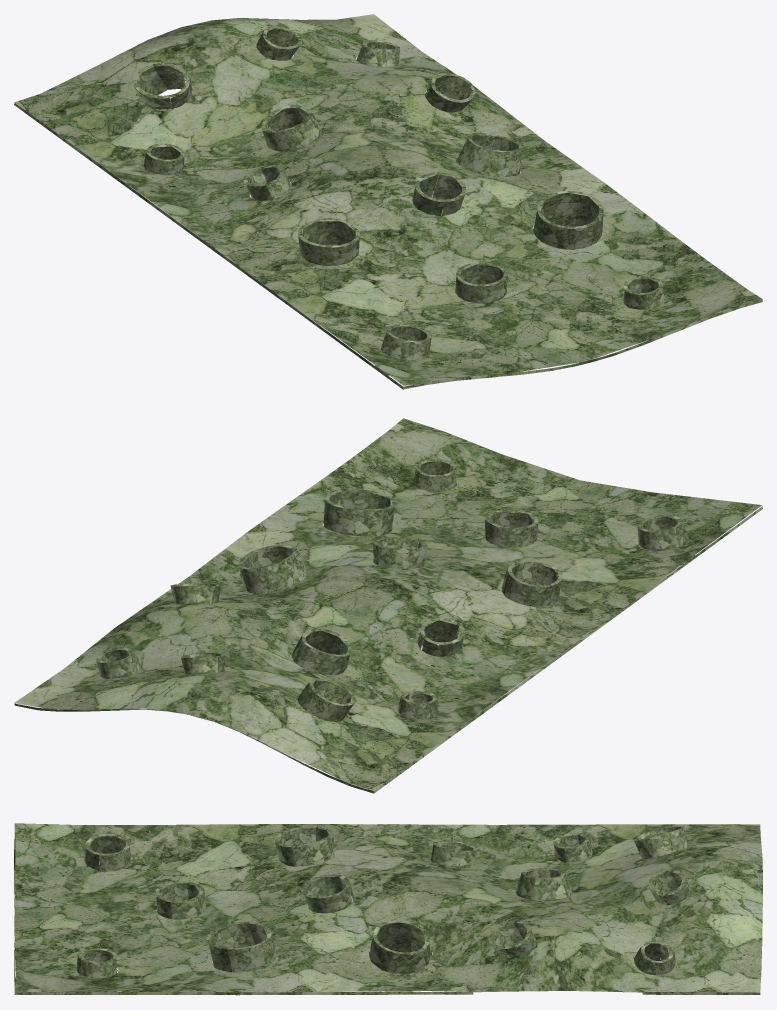
The model's file is spooky-verdealip-carpet-v90.glb.
3 views of the same model, one above another, from view 1: azimuth 30°, elevation 25°; view 2: azimuth 150°, elevation 25°; view 3: azimuth 270°, elevation 25° (orthographic). The views are drawn at different scales.
Visible parts, largest first — view 1: spooky-verdealip-carpet; view 2: spooky-verdealip-carpet; view 3: spooky-verdealip-carpet.
Boxes of the visible parts, <box> form: spooky-verdealip-carpet: <box>14,14,762,389</box>; spooky-verdealip-carpet: <box>14,418,762,793</box>; spooky-verdealip-carpet: <box>14,823,762,995</box>.
Bounding box in the file's own units: 3.12 × 0.6929 × 5.87.
Materials: 1 (1 with a texture image).
